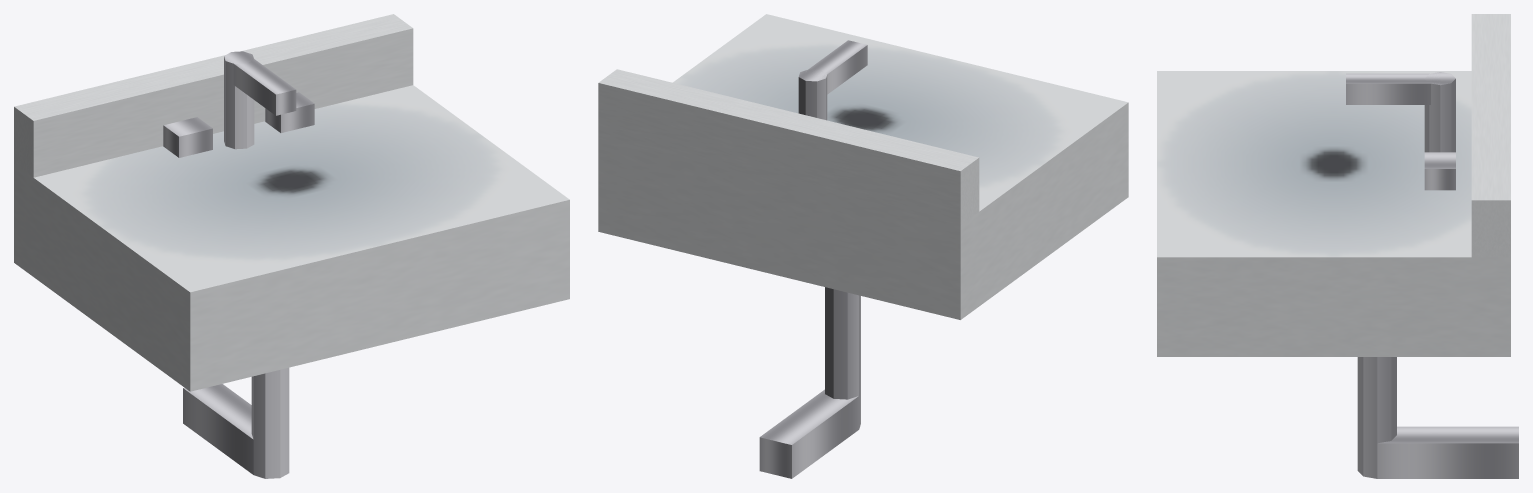
File: sink.obj
3 views of the same model, side by side, from view 1: azimuth 30°, elevation 25°; view 2: azimuth 150°, elevation 25°; view 3: azimuth 270°, elevation 25° (orthographic). The views are drawn at different scales.
Size of the model in its own units: 0.56 by 0.55 by 0.46.
Materials: 1 (1 with a texture image).
